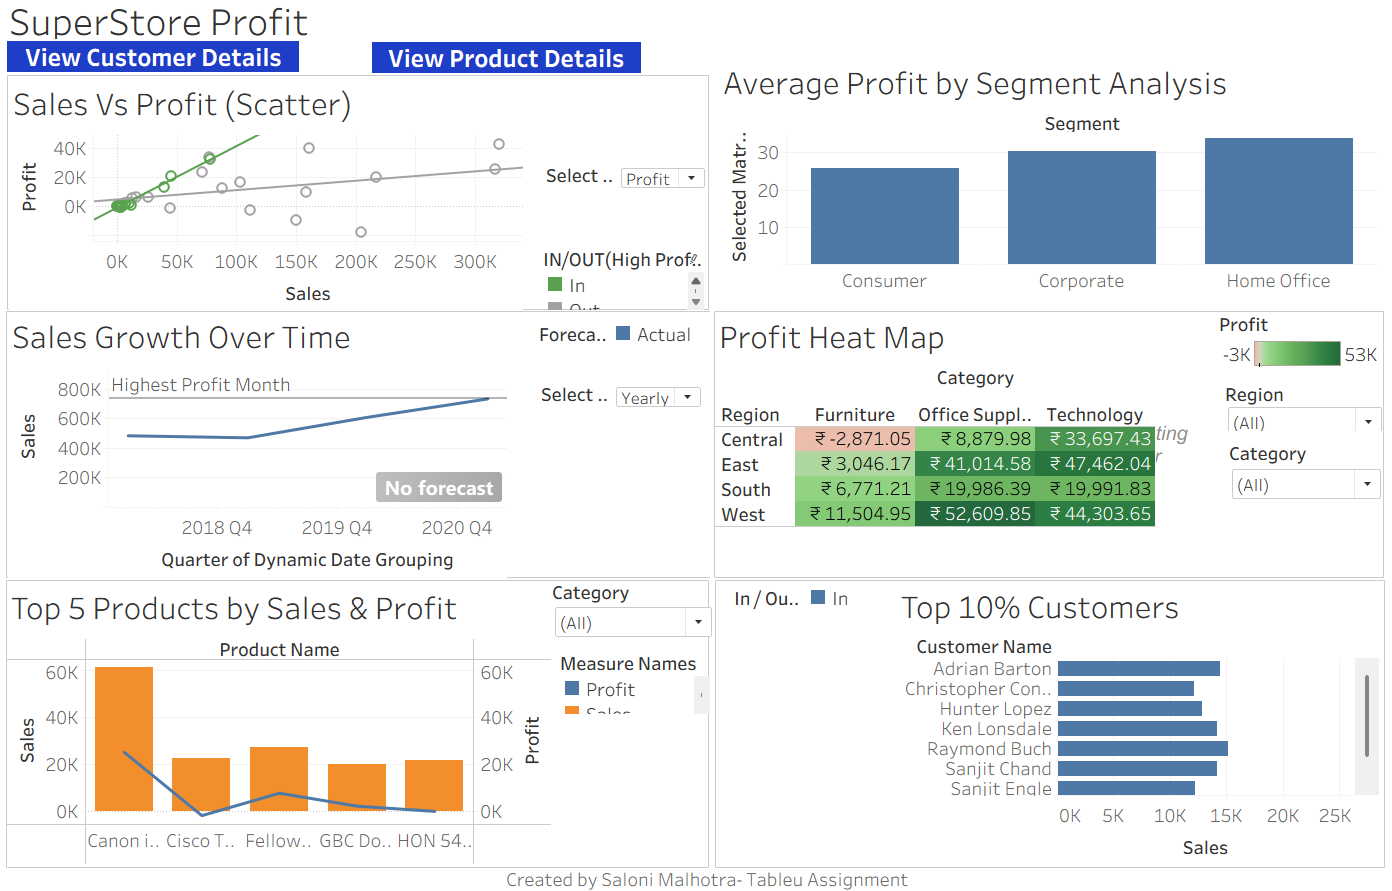

What the dashboard file says about the page in this screenshot:
{"tool":"tableau","page":{"name":"Main Dashboard","canvas":[1400,900],"ordinal":1},"visuals":[{"type":"title","box":[8,8,1384,44]},{"type":"dashboard-object","box":[14,50,292,31]},{"type":"dashboard-object","box":[379,51,269,31]},{"type":"worksheet","title":"Segment Analysis(Sales/Profit)","mark":"Automatic","rows":["Calculation_1181631987258540033"],"cols":["Segment"],"box":[722.2,62,667.3,255]},{"type":"worksheet","title":"Sales Vs Profit (Scatter)","mark":"Automatic","rows":["Profit"],"cols":["Sales"],"box":[16,87,514,234]},{"type":"parameter","param":"[Parameters].[Sales Parameter]","box":[553,174,162,48]},{"type":"legend","title":"Sales Vs Profit (Scatter)","param":"[federated.0w46ouo0xhwxt51fr6fwt11aox24].[io:High Profit Customers (TOP 20%):nk]","box":[550,255,163,64]},{"type":"worksheet","title":"Sales Growth Over Time","mark":"Automatic","rows":["Sales"],"cols":["Calculation_1181631987602313218"],"box":[15.2,320,499.3,267]},{"type":"worksheet","title":"Profit Heat Map","mark":"Square","rows":["Region"],"cols":["Category"],"box":[722.2,320,442.2,266]},{"type":"legend","title":"Profit Heat Map","param":"[federated.0w46ouo0xhwxt51fr6fwt11aox24].[sum:Profit:qk]","box":[1226.2,320,163.3,65]},{"type":"legend","title":"Sales Growth Over Time","param":"[federated.0w46ouo0xhwxt51fr6fwt11aox24].[none:Forecast Indicator:nk]","box":[546,330,163.3,43]},{"type":"filter","title":"Profit Heat Map","param":"[federated.0w46ouo0xhwxt51fr6fwt11aox24].[none:Region:nk]","box":[1232,390,159.8,50]},{"type":"parameter","param":"[Parameters].[Parameter 1]","box":[548.3,393,163.3,48]},{"type":"filter","title":"Profit Heat Map","param":"[federated.0w46ouo0xhwxt51fr6fwt11aox24].[none:Category:nk]","box":[1235.5,449,155.2,66]},{"type":"filter","title":"Top 5 Products by Sales & Profit","param":"[federated.0w46ouo0xhwxt51fr6fwt11aox24].[none:Category:nk]","box":[558.8,588,163.3,61]},{"type":"worksheet","title":"Top 10% customers","mark":"Automatic","rows":["Customer Name"],"cols":["Sales"],"box":[904.2,590,481.8,285]},{"type":"worksheet","title":"Top 5 Products by Sales & Profit","mark":"Automatic","rows":["Sales","Profit"],"cols":["Product Name"],"box":[14,591,544.8,283]},{"type":"legend","title":"Top 10% customers","param":"[federated.0w46ouo0xhwxt51fr6fwt11aox24].[io:top 10% customers by sales:nk]","box":[740.8,594,143.5,43]},{"type":"legend","title":"Top 5 Products by Sales & Profit","param":"[federated.0w46ouo0xhwxt51fr6fwt11aox24].[:Measure Names]","box":[567,659,151.7,64]},{"type":"text","box":[508.7,876,448,24]}]}

Visuals, with their boxes in screenshot pixels (x1, y1, x2, y2), scaled from the page's 1400x900 canvas onto the 1392x891 screenshot:
title: (x1=8, y1=8, x2=1384, y2=51)
dashboard-object: (x1=14, y1=50, x2=304, y2=80)
dashboard-object: (x1=377, y1=50, x2=644, y2=81)
"Segment Analysis(Sales/Profit)" worksheet: (x1=718, y1=61, x2=1382, y2=314)
"Sales Vs Profit (Scatter)" worksheet: (x1=16, y1=86, x2=527, y2=318)
parameter: (x1=550, y1=172, x2=711, y2=220)
"Sales Vs Profit (Scatter)" legend: (x1=547, y1=252, x2=709, y2=316)
"Sales Growth Over Time" worksheet: (x1=15, y1=317, x2=512, y2=581)
"Profit Heat Map" worksheet (Square marks): (x1=718, y1=317, x2=1158, y2=580)
"Profit Heat Map" legend: (x1=1219, y1=317, x2=1382, y2=381)
"Sales Growth Over Time" legend: (x1=543, y1=327, x2=705, y2=369)
"Profit Heat Map" filter: (x1=1225, y1=386, x2=1384, y2=436)
parameter: (x1=545, y1=389, x2=708, y2=437)
"Profit Heat Map" filter: (x1=1228, y1=445, x2=1383, y2=510)
"Top 5 Products by Sales & Profit" filter: (x1=556, y1=582, x2=718, y2=643)
"Top 10% customers" worksheet: (x1=899, y1=584, x2=1378, y2=866)
"Top 5 Products by Sales & Profit" worksheet: (x1=14, y1=585, x2=556, y2=865)
"Top 10% customers" legend: (x1=737, y1=588, x2=879, y2=631)
"Top 5 Products by Sales & Profit" legend: (x1=564, y1=652, x2=715, y2=716)
text: (x1=506, y1=867, x2=951, y2=890)
